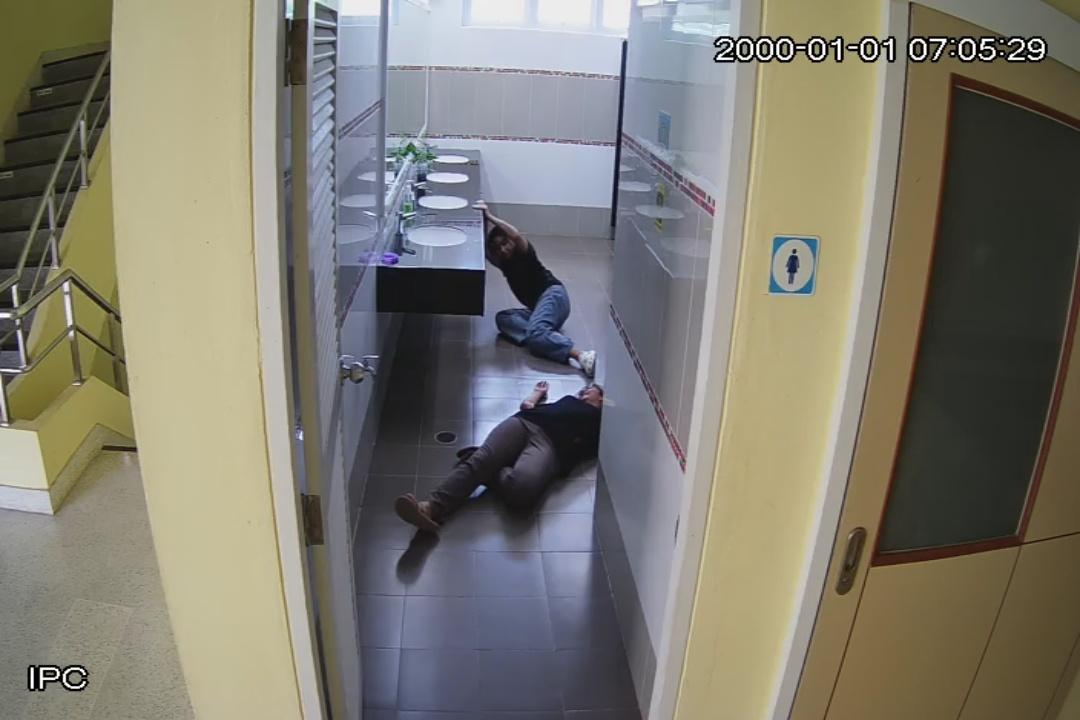fall: (400, 362, 622, 544), (474, 199, 598, 377)
